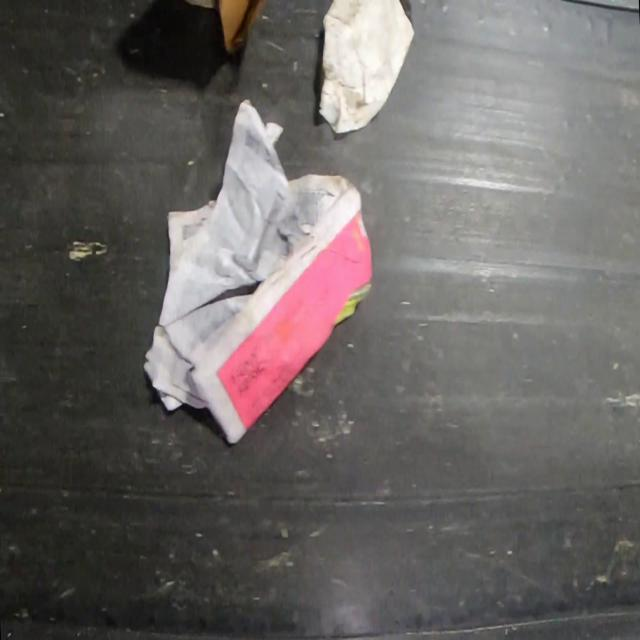cardboard: (181, 0, 269, 54)
